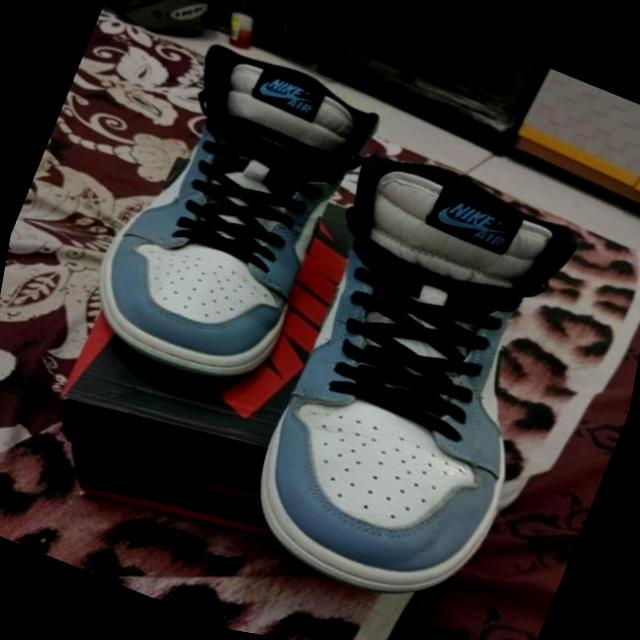nike_fake_jordan: (206, 116, 635, 640), (57, 8, 389, 417)
